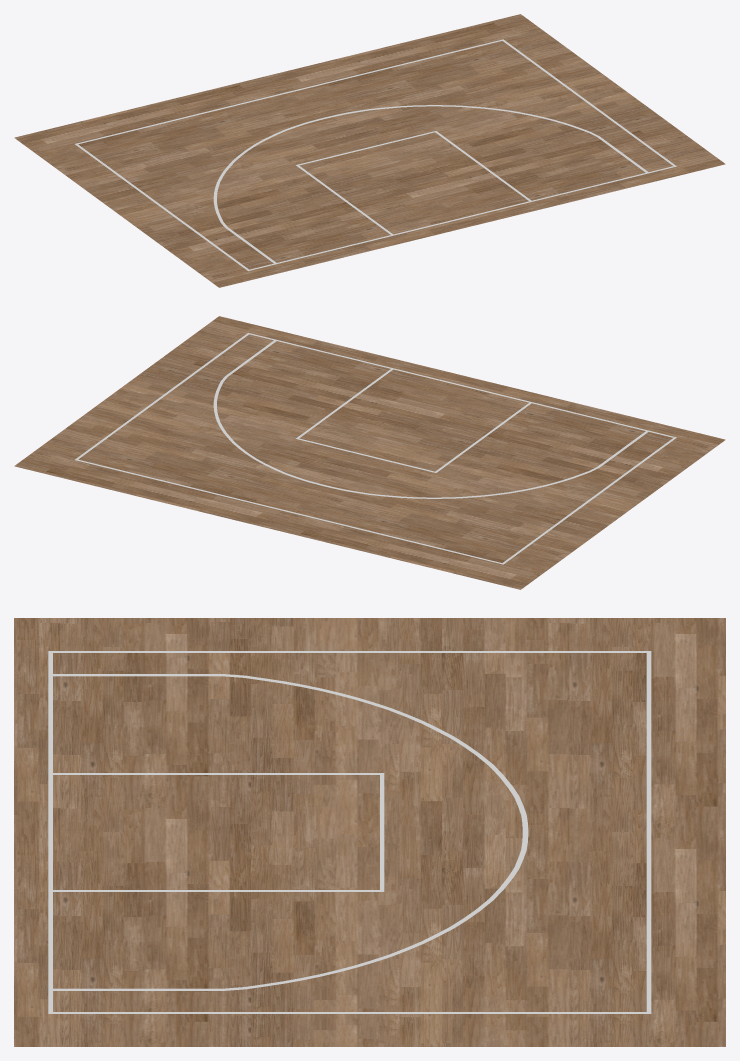
File: courtFloor.fbx
3 views of the same model, one above another, from view 1: azimuth 30°, elevation 25°; view 2: azimuth 150°, elevation 25°; view 3: azimuth 270°, elevation 25° (orthographic). The views are drawn at different scales.
Parts seen in each view (by area): view 1: groundGym; view 2: groundGym; view 3: groundGym.
Part boxes in pixels (bbox=[...]): groundGym: bbox=[14, 14, 725, 287]; groundGym: bbox=[14, 316, 725, 589]; groundGym: bbox=[14, 618, 725, 1046].
Bounding box in the file's own units: 1803 × 0.000206 × 1265.
Materials: 2 (1 with a texture image).
